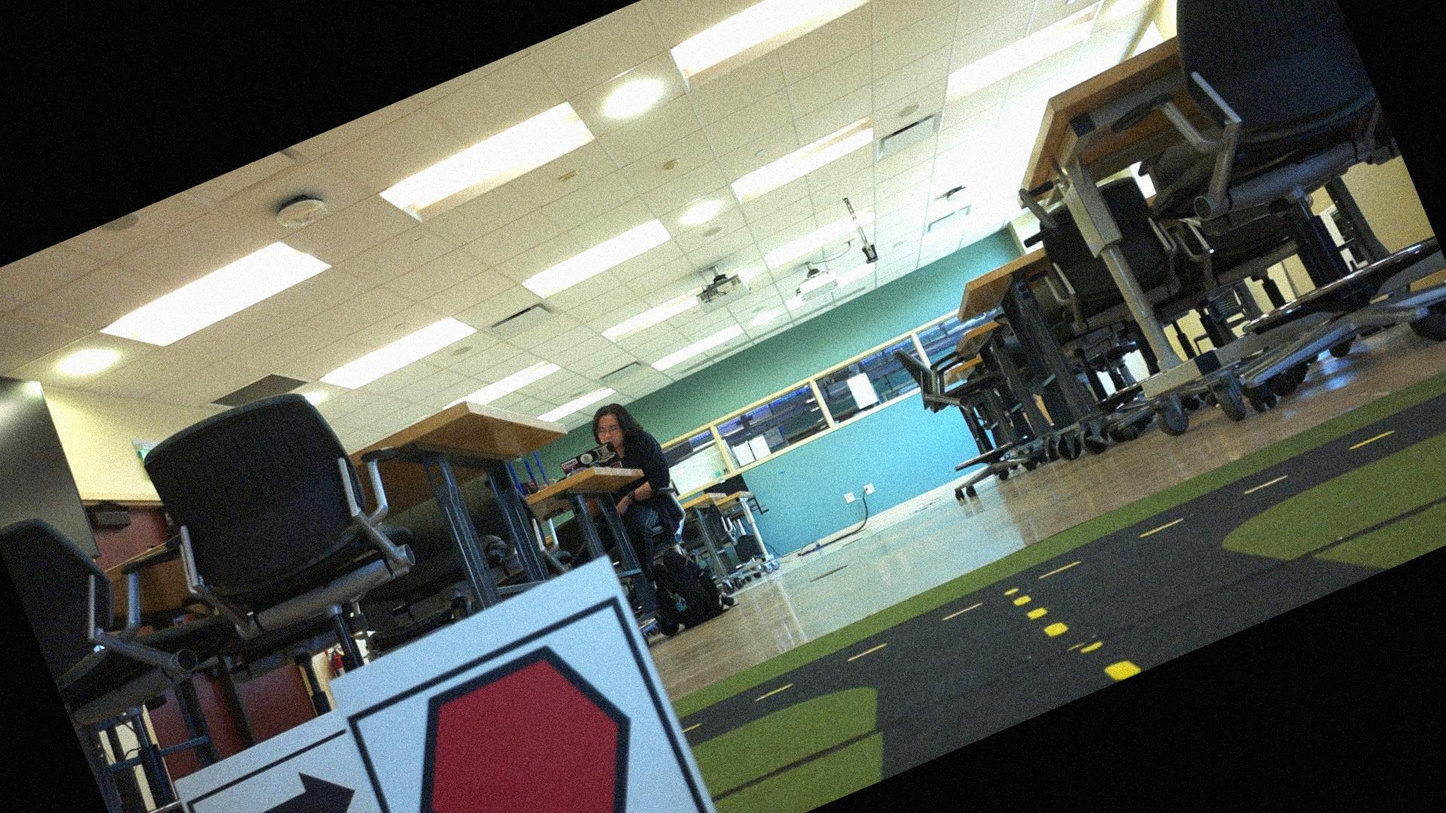stop: (364, 611, 690, 812)
turnright: (191, 742, 393, 812)
yellowline: (1016, 562, 1143, 705)
